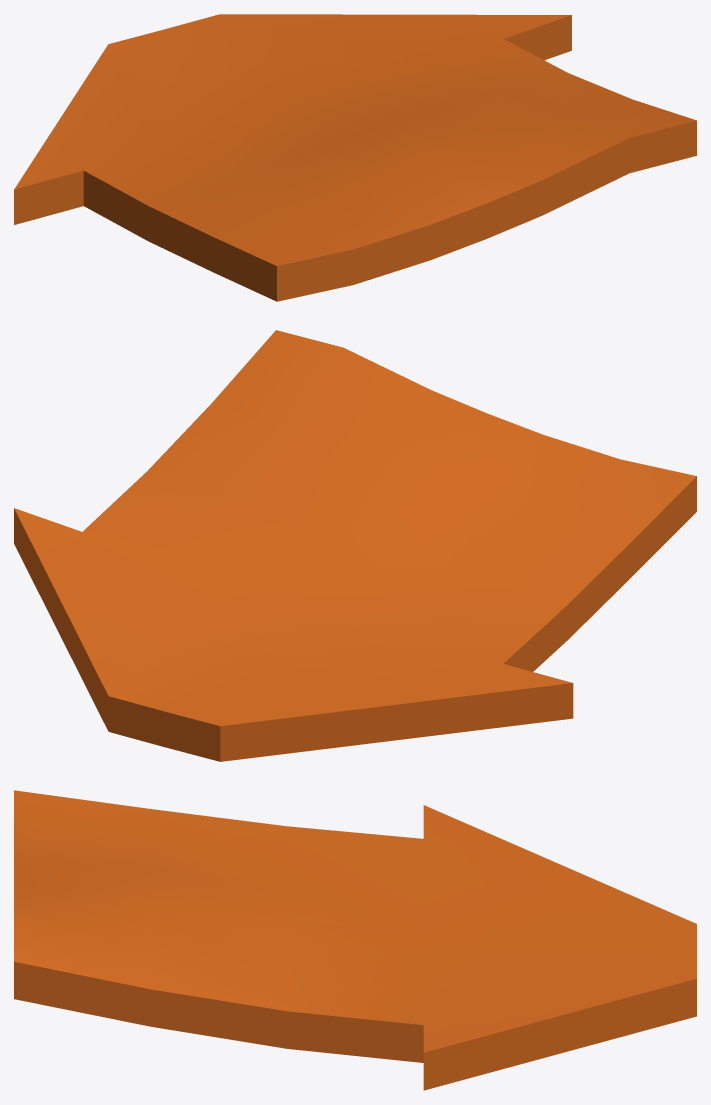
File: post-house-3.fbx
The picture shows the model from 3 angles, top to bottom: view 1: azimuth 30°, elevation 25°; view 2: azimuth 150°, elevation 25°; view 3: azimuth 270°, elevation 25°; orthographic projection. The views are drawn at different scales.
Parts seen in each view (by area): view 1: Plane.005; view 2: Plane.005; view 3: Plane.005.
Part boxes in pixels (box(x1,y1,x2,y2)): Plane.005: box(14, 14, 696, 301); Plane.005: box(14, 330, 696, 761); Plane.005: box(14, 790, 696, 1090).
Bounding box in the file's own units: 200 × 44.56 × 200.
